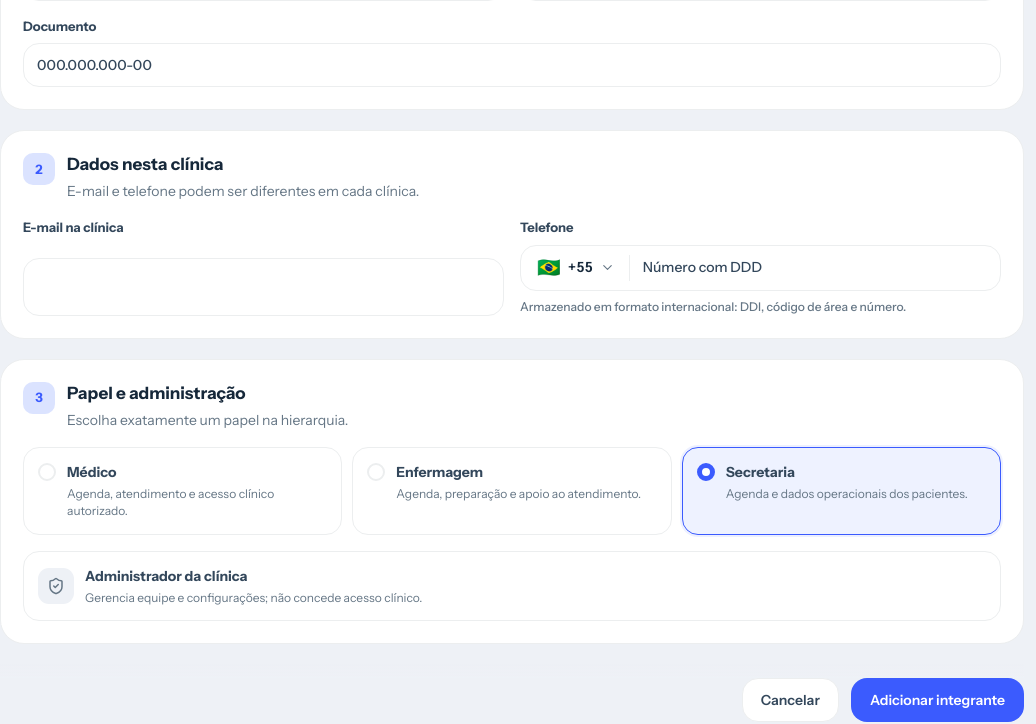
Test: valida contato, duração médica e preserva a administração fora da hierarquia
(page scrolled)
Click the radio button labelled "Médico Agenda, atendimento e acesso clínico autorizado.".
click(183, 491)  # box [23, 447, 342, 535]
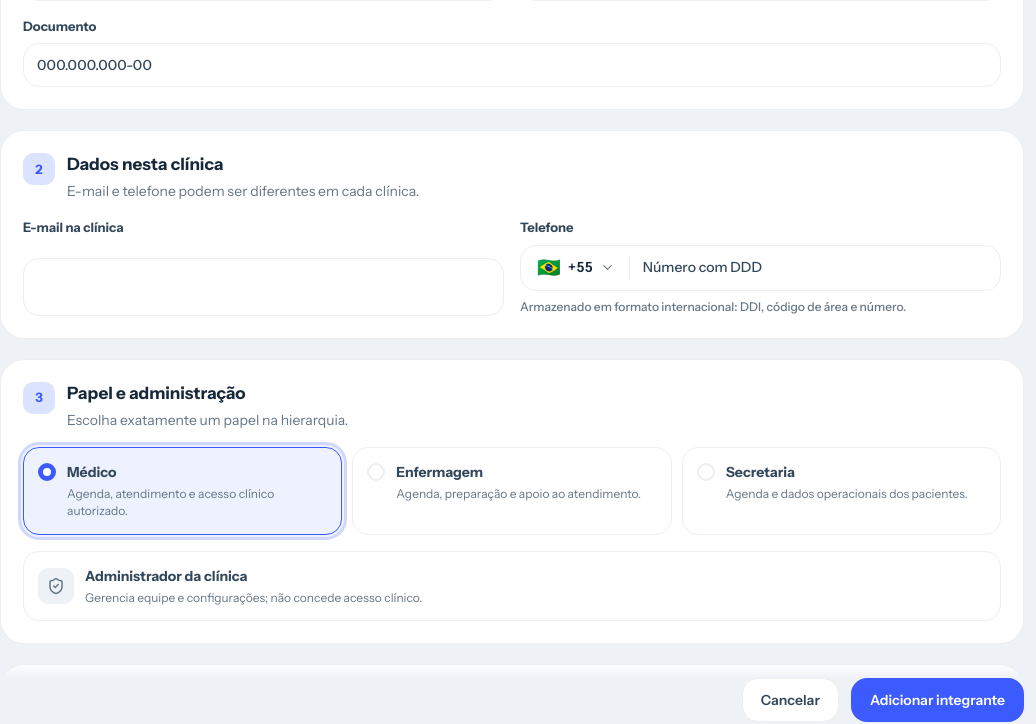
Click the checkbox labelled "Administrador da clínica".
click(56, 586)  # box [23, 551, 1001, 621]
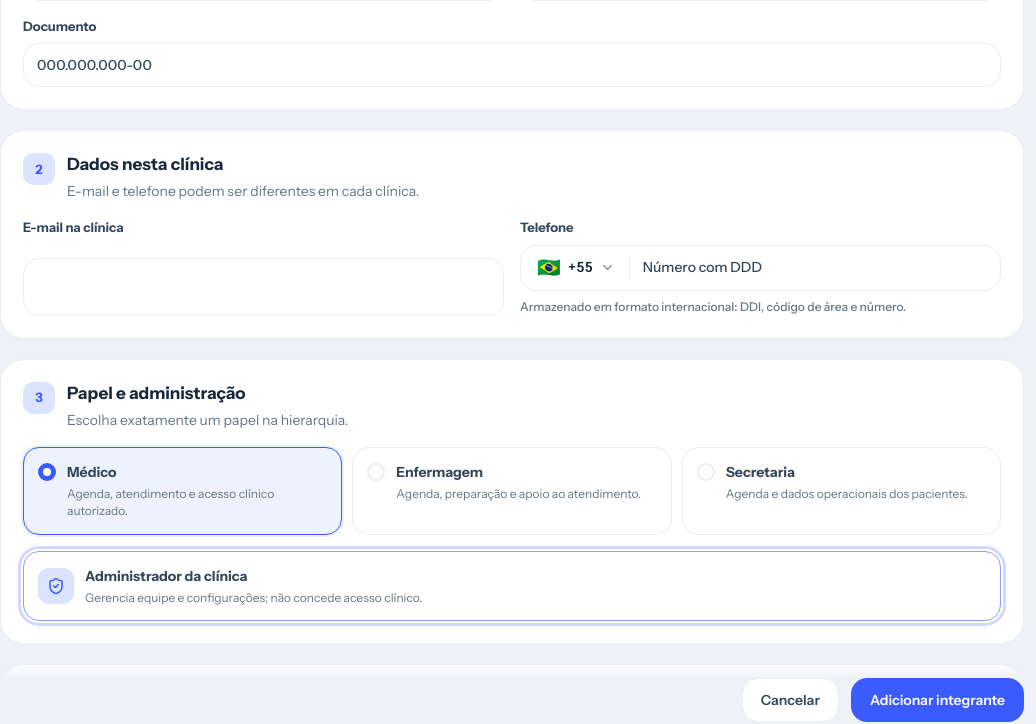
Click the button "Adicionar integrante".
click(937, 700)  # box [851, 678, 1024, 722]
(page scrolled)
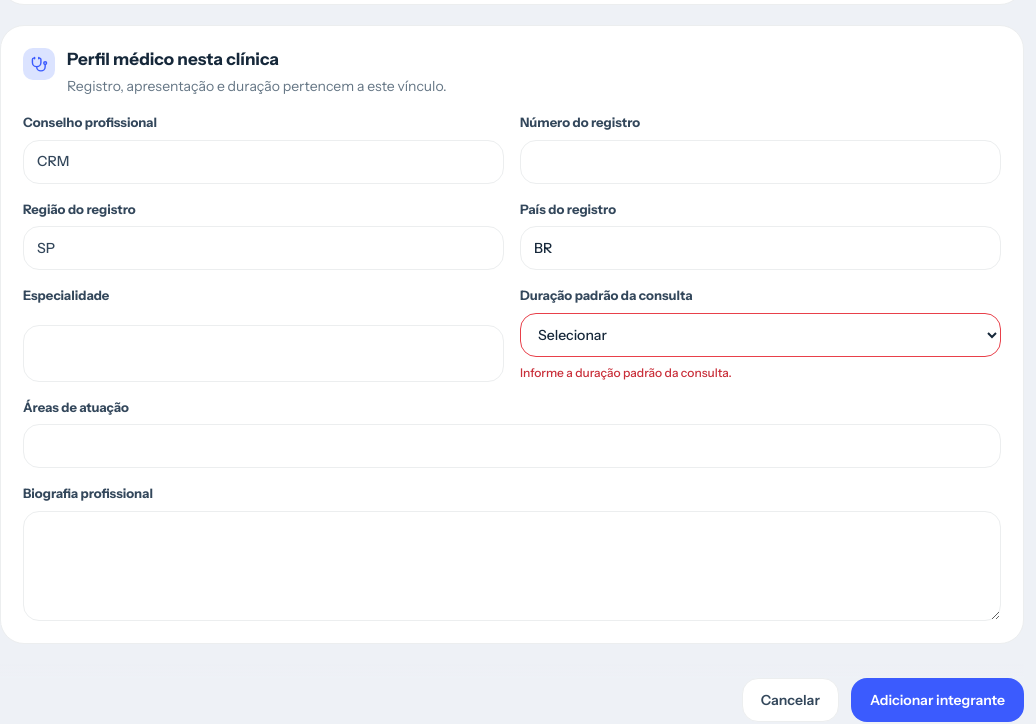
Result: the text "Informe a duração padrão da consulta." is shown at [520, 365, 732, 380]
